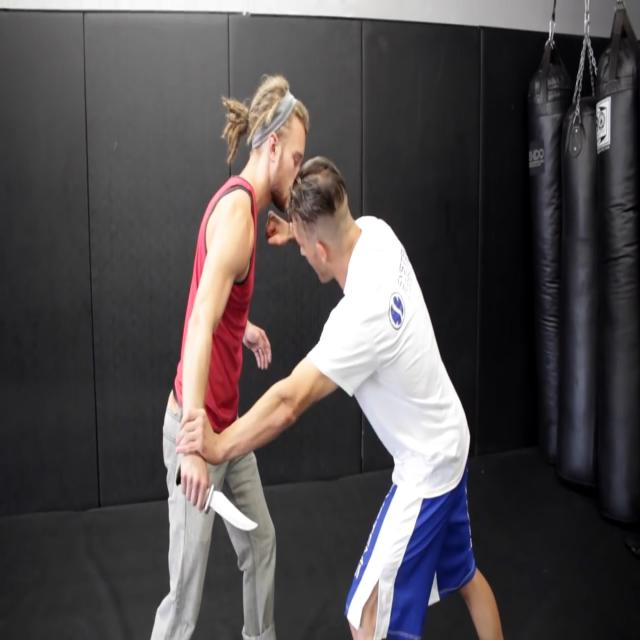knife: (204, 483, 262, 539)
